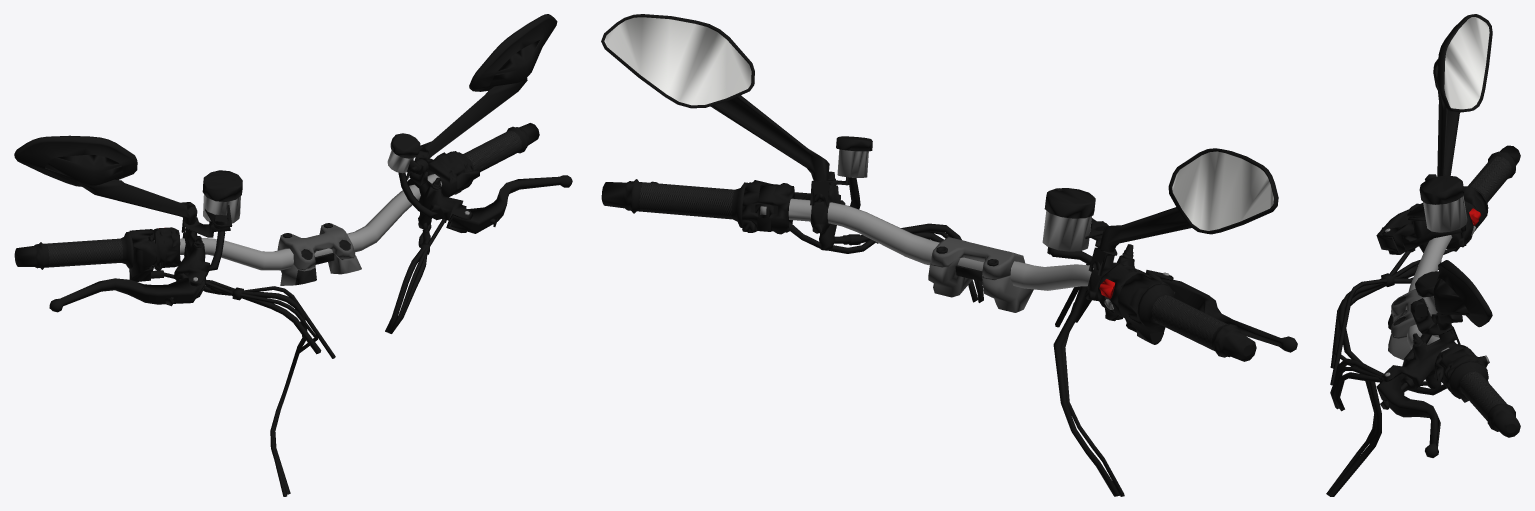
Rendered from Handlebar_Normal-transformed.glb.
3 views of the same model, side by side, from view 1: azimuth 30°, elevation 25°; view 2: azimuth 150°, elevation 25°; view 3: azimuth 270°, elevation 25° (orthographic). The views are drawn at different scales.
Parts seen in each view (by area): view 1: Object_32.001; view 2: Object_32.001; view 3: Object_32.001.
Part boxes in pixels (left/top/right/bottom): Object_32.001: left=14, top=14, right=572, bottom=496; Object_32.001: left=601, top=14, right=1297, bottom=496; Object_32.001: left=1326, top=14, right=1520, bottom=496.
Bounding box in the file's own units: 0.8847 × 0.5546 × 0.2532.
Materials: 3 (3 with a texture image).
